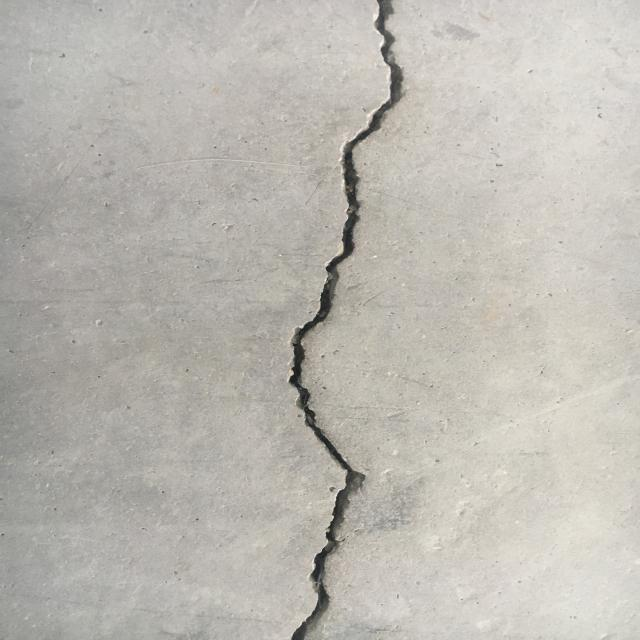Rachadura: (289, 61, 401, 640), (375, 0, 393, 64)
